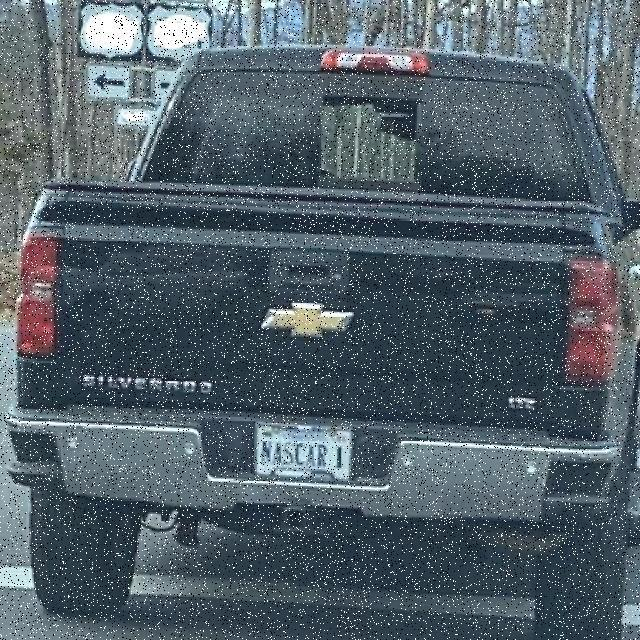LicensePlate: (251, 419, 354, 481)
